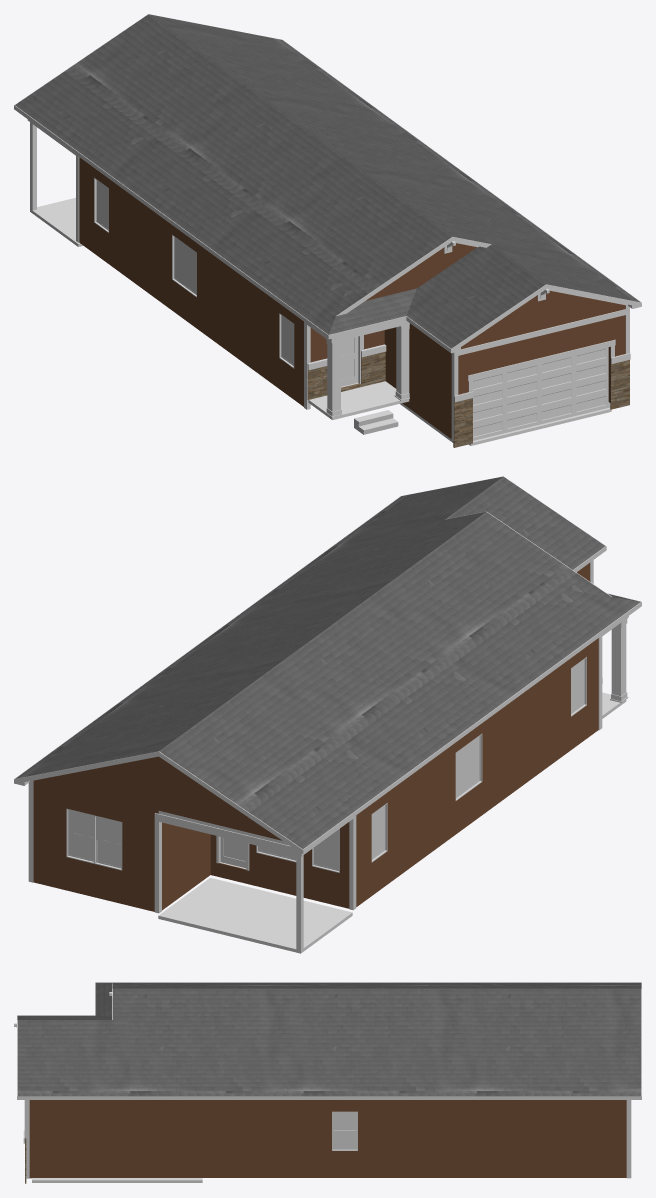
The model's file is 129-1335-dm-traditional.glb.
The picture shows the model from 3 angles, top to bottom: view 1: azimuth 30°, elevation 25°; view 2: azimuth 150°, elevation 25°; view 3: azimuth 270°, elevation 25°; orthographic projection. The views are drawn at different scales.
Visible parts, largest first — view 1: Basic Roof Wood Rafter 4" - Asphalt Shingle - Insulated_b027, Basic Wall BSB Exterior - Stud_3.5" - Sheathing_0.5" - _a010, Traditional - BSB Exterior - Overhead Garage Door - Clo_3337, Basic Roof Wood Rafter 4" - Asphalt Shingle - Insulated_9f69, Basic Wall BSB Exterior - Stud_3.5" - Sheathing_0.5" - _44ac, Fascia Fascia-Flat 1x6 w/12" Soffit Bd [4489854], Basic Wall BSB Exterior - Stud_3.5" - Sheathing_0.5" - _65a5, Basic Wall BSB Exterior - Stud_3.5" - Sheathing_0.5" - _9aa0, Basic Wall BSB Exterior - Stud_3.5" - Sheathing_0.5" - _0e60, Basic Wall BSB Exterior - Brick Veneer_2" [4480884], Floor BSB Concrete Slab - 4" - Slope Option [4260174], Basic Wall BSB Exterior - Stud_3.5" - Sheathing_0.5" - _c7ea (+14 smaller); view 2: Basic Roof Wood Rafter 4" - Asphalt Shingle - Insulated_b027, Basic Wall BSB Exterior - Stud_3.5" - Sheathing_0.5" - _a010, Basic Wall BSB Exterior - Stud_3.5" - Sheathing_0.5" - _e5d4, Basic Roof Wood Rafter 4" - Asphalt Shingle - Insulated_9f69, Floor BSB Concrete Slab - 4" - Slope Option [4260206], Basic Wall BSB Exterior - Stud_3.5" - Sheathing_0.5" - _44ac, Basic Wall BSB Exterior - Stud_3.5" - Sheathing_0.5" - _7def, Basic Wall BSB Exterior - Stud_3.5" - Sheathing_0.5" - _a39f, Fascia Fascia-Flat 1x6 w/12" Soffit Bd [4489854], Basic Wall BSB Exterior - Stud_3.5" - Sheathing_0.5" - _99a9, Trim - Corner Boards1 Trim - Corner Boards [4482201], BSB Single Hung 3050 SH w/ Sill [4265751] (+9 smaller); view 3: Basic Roof Wood Rafter 4" - Asphalt Shingle - Insulated_b027, Basic Wall BSB Exterior - Stud_3.5" - Sheathing_0.5" - _4cd1, Basic Wall BSB Exterior - Stud_3.5" - Sheathing_0.5" - _eddb, Basic Wall BSB Exterior - Stud_3.5" - Sheathing_0.5" - _428d, Basic Roof Wood Rafter 4" - Asphalt Shingle - Insulated_9f69, Fascia Fascia-Flat 1x6 w/12" Soffit Bd [4489854], BSB Single Hung 3050 SH w/ Sill [4265274], Trim - Corner Boards1 Trim - Corner Boards [4482201], Floor BSB Concrete Slab - 4" - Slope Option [4274134].
Boxes of the visible parts, box(x1,y1,x2,y2) form: Basic Roof Wood Rafter 4" - Asphalt Shingle - Insulated_b027: box(15, 14, 640, 348); Basic Wall BSB Exterior - Stud_3.5" - Sheathing_0.5" - _a010: box(79, 157, 221, 346); Traditional - BSB Exterior - Overhead Garage Door - Clo_3337: box(473, 347, 609, 440); Basic Roof Wood Rafter 4" - Asphalt Shingle - Insulated_9f69: box(336, 187, 490, 315); Basic Wall BSB Exterior - Stud_3.5" - Sheathing_0.5" - _44ac: box(221, 261, 301, 404); Fascia Fascia-Flat 1x6 w/12" Soffit Bd [4489854]: box(14, 14, 641, 352); Basic Wall BSB Exterior - Stud_3.5" - Sheathing_0.5" - _65a5: box(384, 323, 451, 438); Basic Wall BSB Exterior - Stud_3.5" - Sheathing_0.5" - _9aa0: box(458, 305, 625, 402); Basic Wall BSB Exterior - Stud_3.5" - Sheathing_0.5" - _0e60: box(461, 291, 624, 349); Basic Wall BSB Exterior - Brick Veneer_2" [4480884]: box(453, 354, 629, 447); Floor BSB Concrete Slab - 4" - Slope Option [4260174]: box(308, 381, 409, 419); Basic Wall BSB Exterior - Stud_3.5" - Sheathing_0.5" - _c7ea: box(366, 243, 476, 300); Basic Roof Wood Rafter 4" - Asphalt Shingle - Insulated_b027: box(15, 476, 640, 848); Basic Wall BSB Exterior - Stud_3.5" - Sheathing_0.5" - _a010: box(349, 704, 508, 906); Basic Wall BSB Exterior - Stud_3.5" - Sheathing_0.5" - _e5d4: box(33, 780, 158, 911); Basic Roof Wood Rafter 4" - Asphalt Shingle - Insulated_9f69: box(396, 512, 610, 596); Floor BSB Concrete Slab - 4" - Slope Option [4260206]: box(158, 877, 352, 953); Basic Wall BSB Exterior - Stud_3.5" - Sheathing_0.5" - _44ac: box(509, 641, 594, 795); Basic Wall BSB Exterior - Stud_3.5" - Sheathing_0.5" - _7def: box(35, 756, 282, 840); Basic Wall BSB Exterior - Stud_3.5" - Sheathing_0.5" - _a39f: box(210, 822, 349, 908); Fascia Fascia-Flat 1x6 w/12" Soffit Bd [4489854]: box(14, 476, 641, 853); Basic Wall BSB Exterior - Stud_3.5" - Sheathing_0.5" - _99a9: box(162, 822, 210, 910); Trim - Corner Boards1 Trim - Corner Boards [4482201]: box(28, 560, 602, 913); BSB Single Hung 3050 SH w/ Sill [4265751]: box(94, 815, 122, 870); Basic Roof Wood Rafter 4" - Asphalt Shingle - Insulated_b027: box(17, 982, 641, 1096); Basic Wall BSB Exterior - Stud_3.5" - Sheathing_0.5" - _4cd1: box(204, 1100, 626, 1177); Basic Wall BSB Exterior - Stud_3.5" - Sheathing_0.5" - _eddb: box(100, 1100, 204, 1177); Basic Wall BSB Exterior - Stud_3.5" - Sheathing_0.5" - _428d: box(29, 1100, 99, 1177); Basic Roof Wood Rafter 4" - Asphalt Shingle - Insulated_9f69: box(113, 983, 229, 1019); Fascia Fascia-Flat 1x6 w/12" Soffit Bd [4489854]: box(17, 982, 641, 1099); BSB Single Hung 3050 SH w/ Sill [4265274]: box(332, 1111, 357, 1150); Trim - Corner Boards1 Trim - Corner Boards [4482201]: box(24, 1100, 631, 1178); Floor BSB Concrete Slab - 4" - Slope Option [4274134]: box(26, 1178, 202, 1182).
Bounding box in the file's own units: 9.49 × 5.58 × 22.09.
3 materials, 2 textured.
